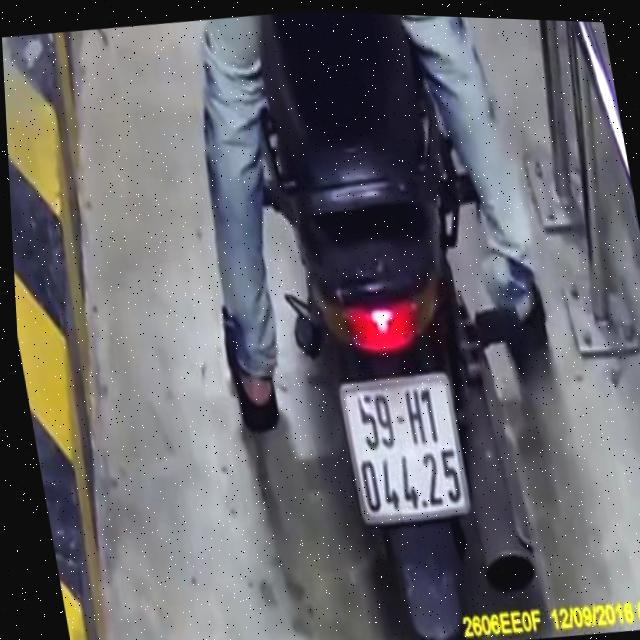motorcycle: (229, 8, 569, 640)
plate: (331, 364, 482, 535)
